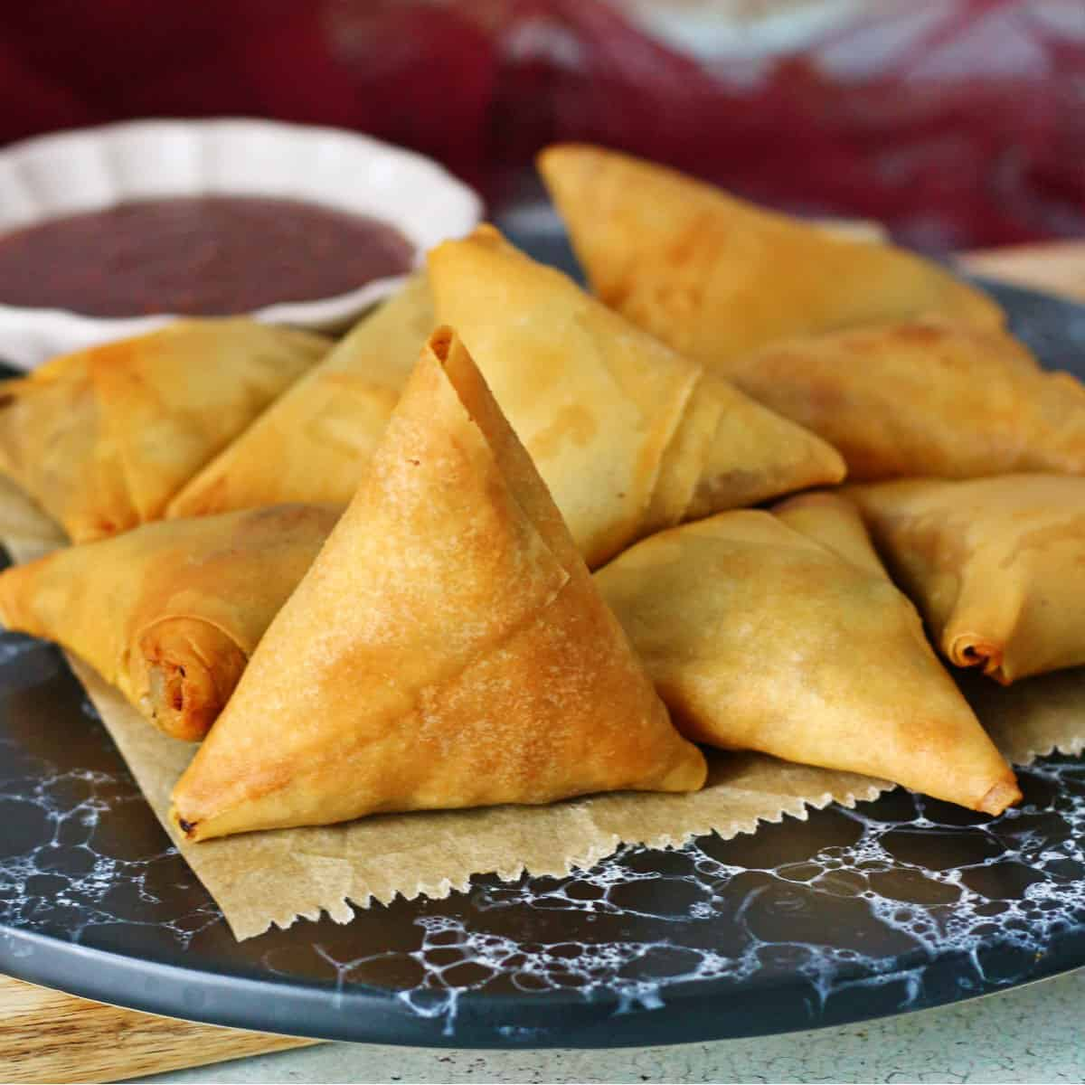samosa: (167, 319, 705, 848), (651, 488, 1035, 823), (436, 206, 854, 491), (533, 142, 823, 292), (0, 558, 208, 744)
